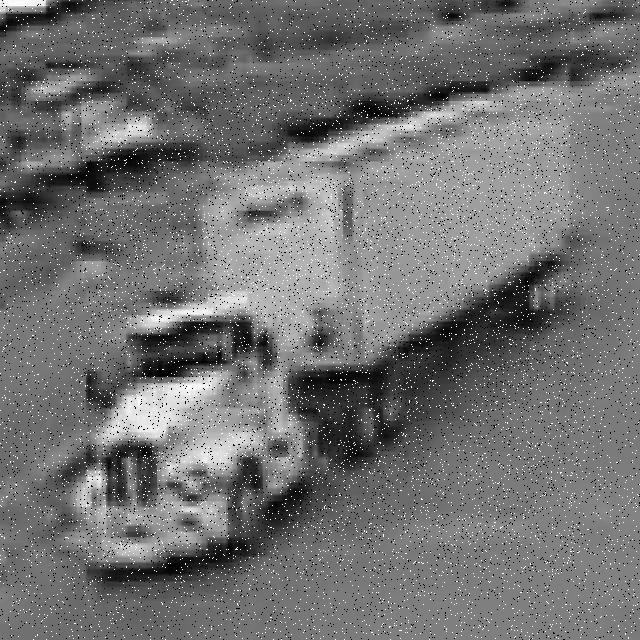Tractor Trailer: (79, 95, 575, 572)
